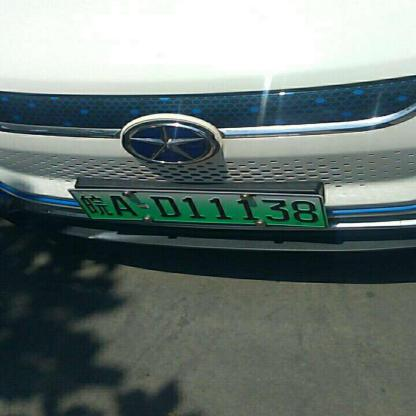lp: (68, 189, 330, 226)
